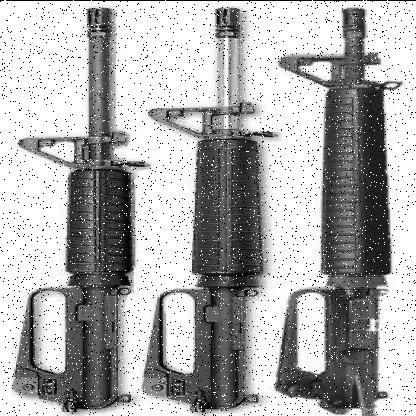rifle: (20, 1, 169, 416), (278, 8, 414, 416), (160, 1, 276, 416)
